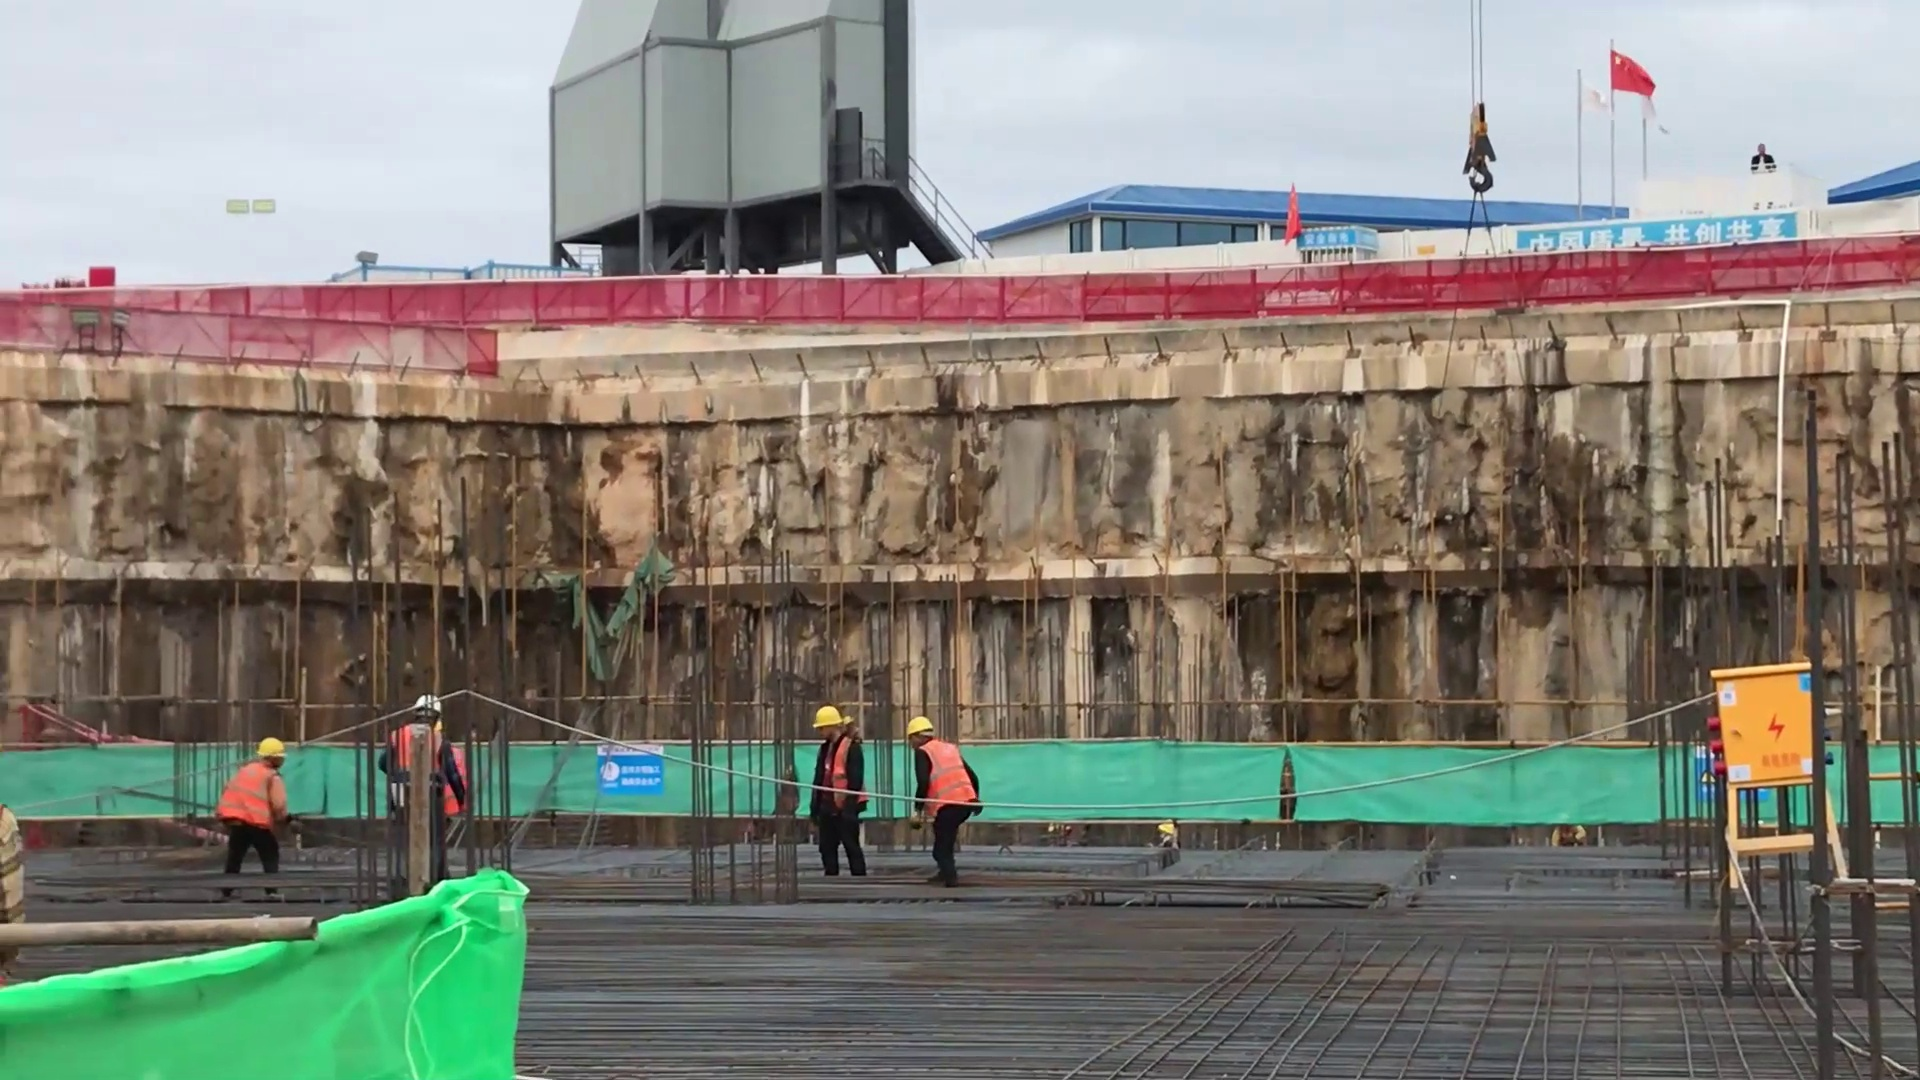ebox: (1691, 629, 1861, 938)
fence: (595, 252, 1355, 340), (6, 272, 601, 381), (1356, 235, 1920, 327)
helmet: (813, 704, 856, 741), (246, 729, 281, 769), (405, 691, 439, 722), (908, 708, 932, 753)
hook: (1445, 104, 1524, 194)
person: (902, 714, 984, 881), (215, 738, 296, 904), (808, 703, 869, 874), (1750, 141, 1776, 179)
slogan: (1507, 207, 1800, 258), (1291, 209, 1391, 261), (587, 740, 673, 797)
vest: (908, 740, 986, 828), (216, 761, 290, 832), (814, 732, 874, 814)
